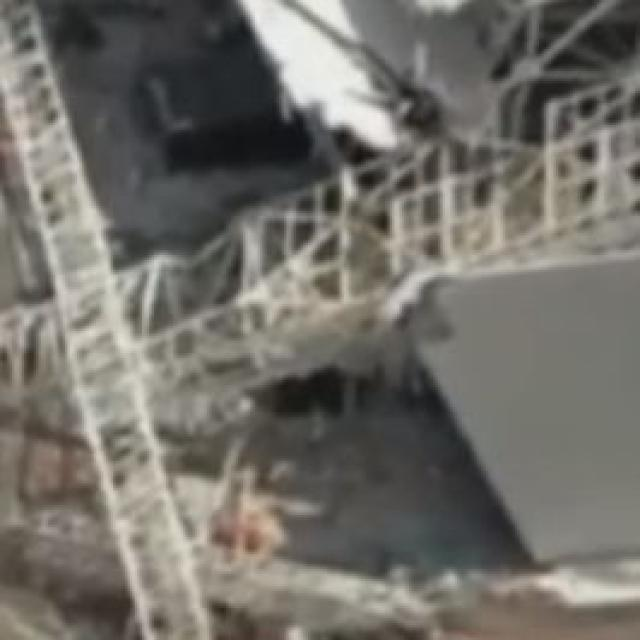collapsed_building: (222, 0, 638, 559)
